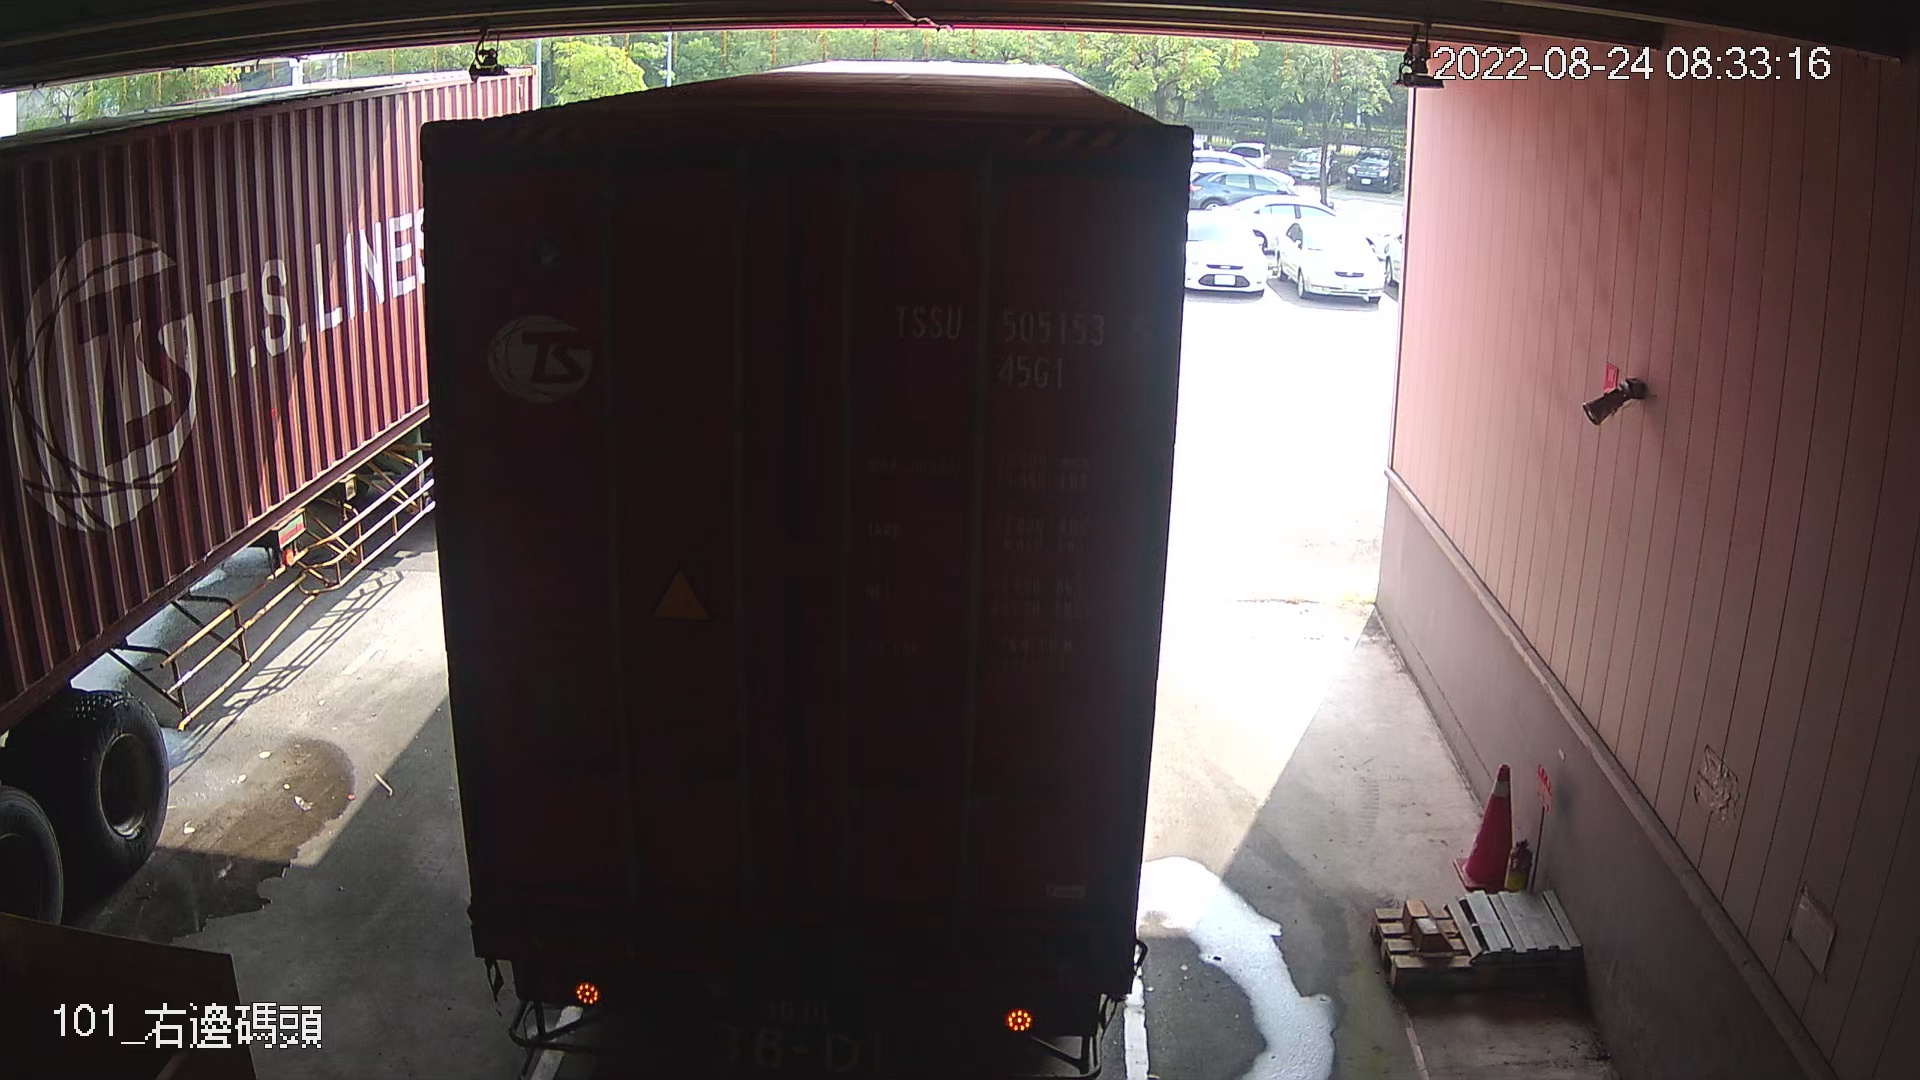container: (881, 291, 1164, 404)
